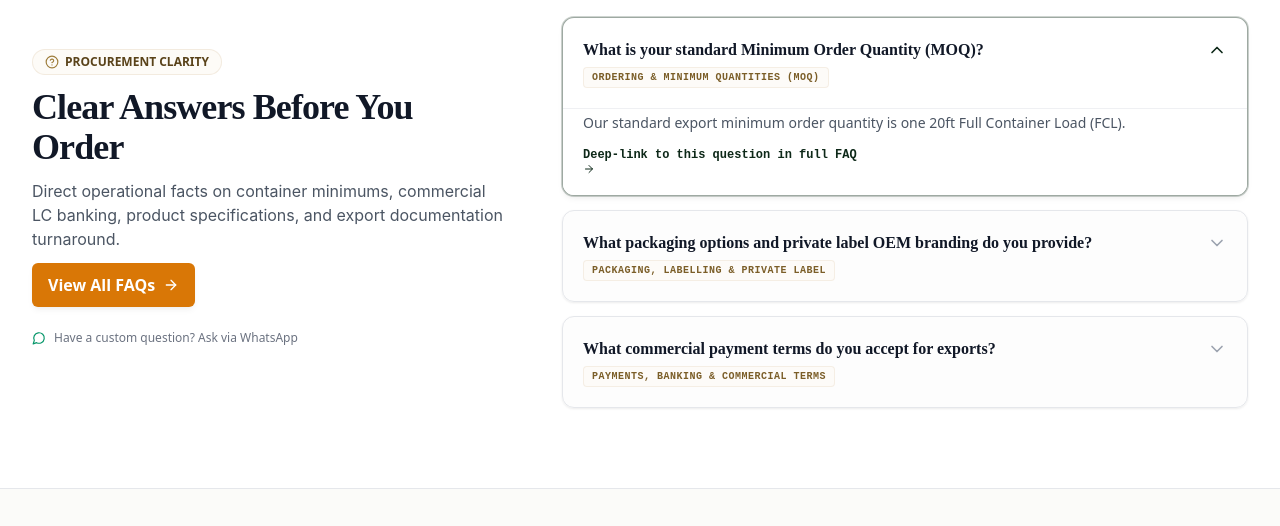
Test case: UI Component: HomeFaqSection Suite › toggles accordion items on user click
The width and height of the screenshot is (1280, 526).
Click the button "What packaging options and private label OEM branding do you provide?": coordinates (838, 242) [563,211,1247,301]
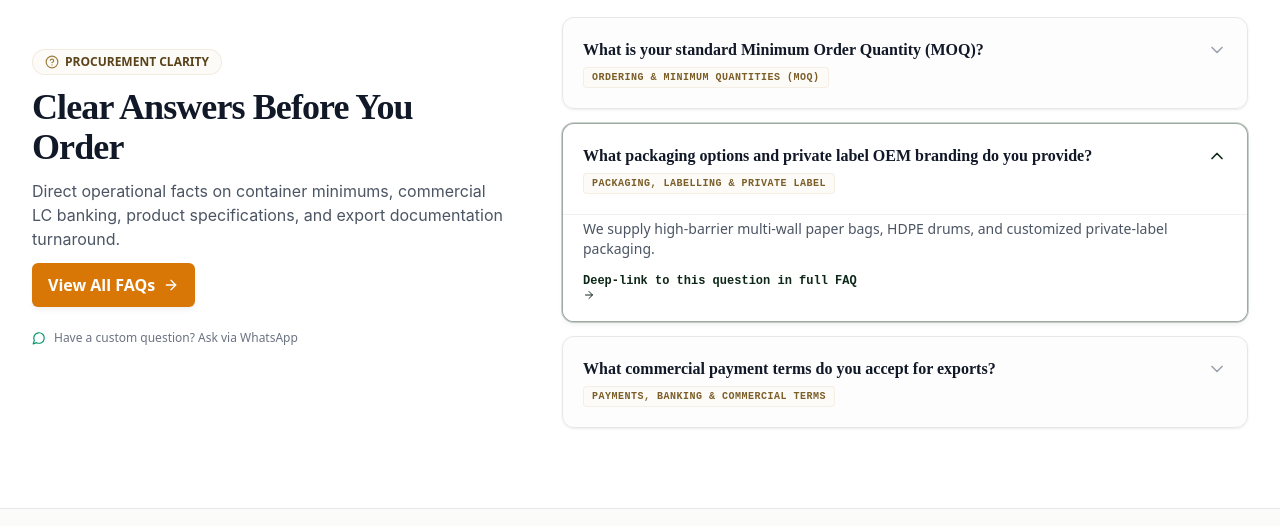
Expected: the button "What packaging options and private label OEM branding do you provide?" is expanded
Expected: the text "We supply high-barrier multi-wall paper bags" is shown, [583,219,1168,258]
// Clicking it again closes it
Click the button "What packaging options and private label OEM branding do you provide?": coordinates (838, 156) [563,124,1247,214]
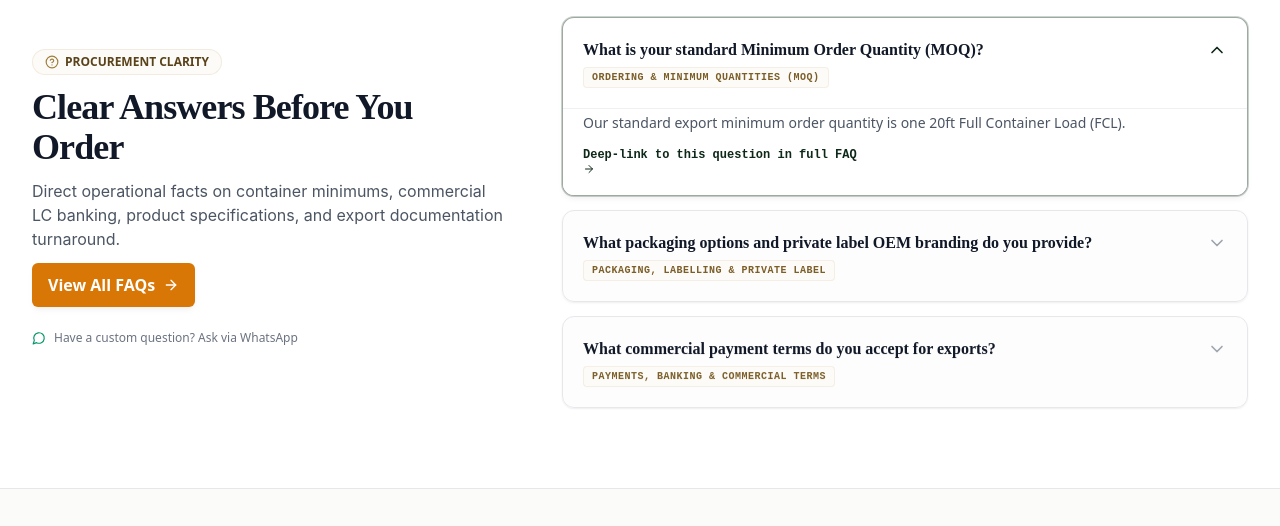
Expected: the button "What packaging options and private label OEM branding do you provide?" is collapsed, [563,211,1247,301]
